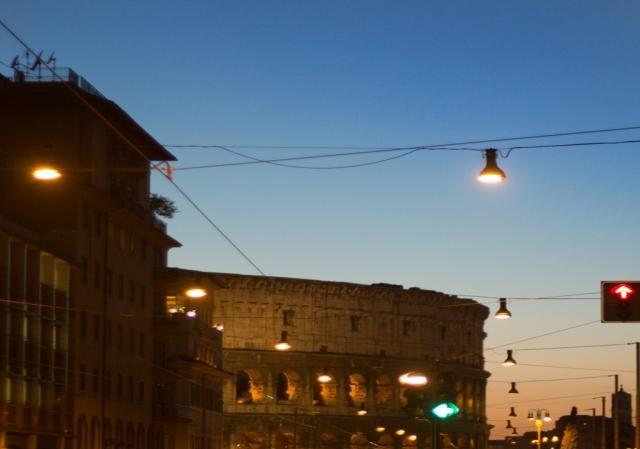green_light: (431, 371, 461, 420)
red_light: (601, 280, 640, 323)
